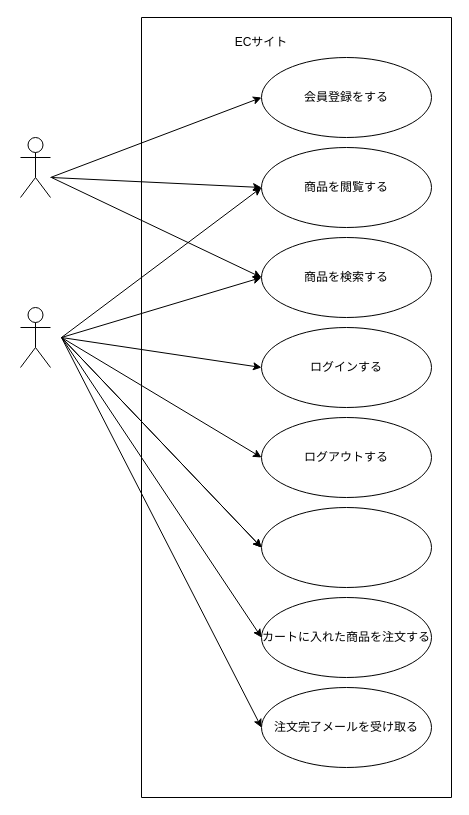
Some shapes in this 469 by 815 pixel diagram are drawn without their labels. The box of each missing label's shape, as (x1, y1, x2, y2) in pixels:
会員: (20, 306, 50, 368)
来訪者: (20, 136, 50, 198)
欲しい商品をカートに入れる: (260, 506, 432, 588)
